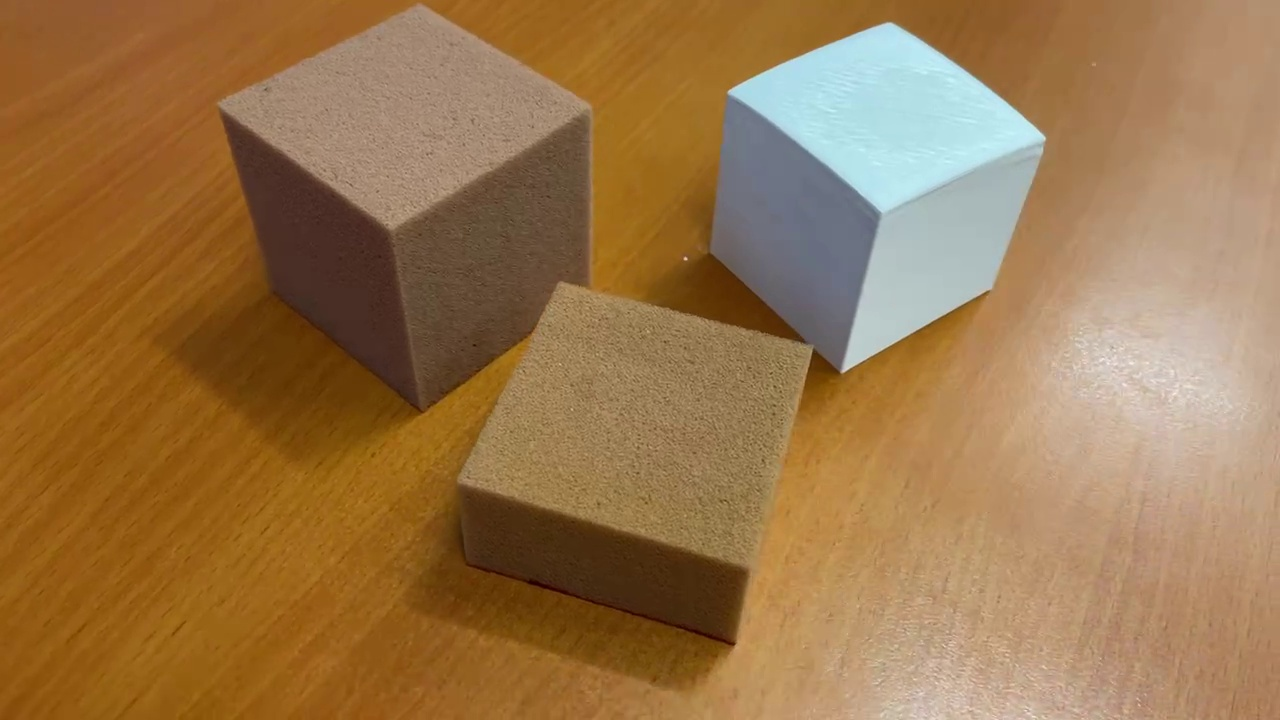Cube: (211, 1, 598, 417), (699, 13, 1049, 382)
Cube_short: (451, 278, 815, 648)
